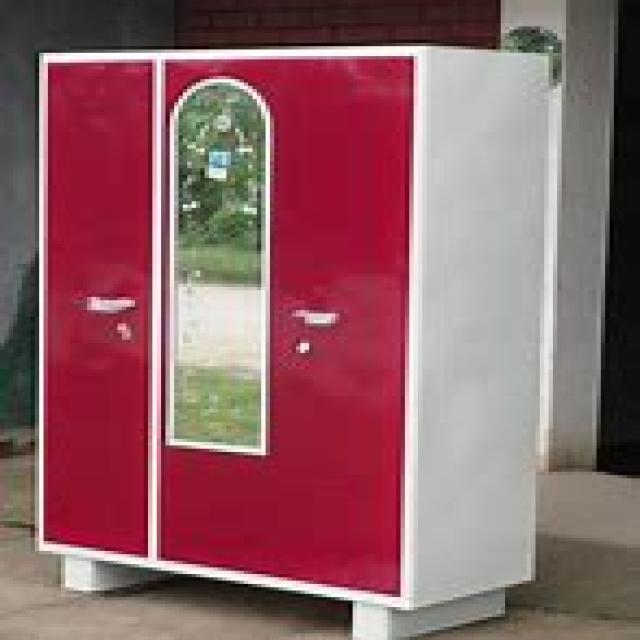dolap: (30, 39, 558, 636)
